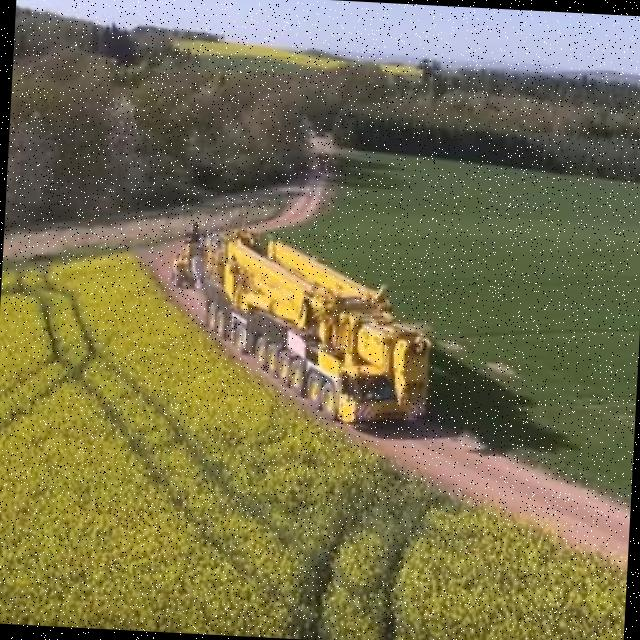Mobile Crane: (184, 227, 434, 424)
